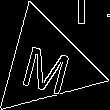M_N: (18, 34, 75, 93)
